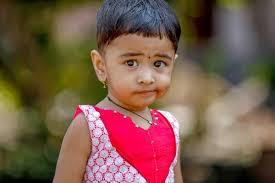Human: (54, 0, 189, 171)
